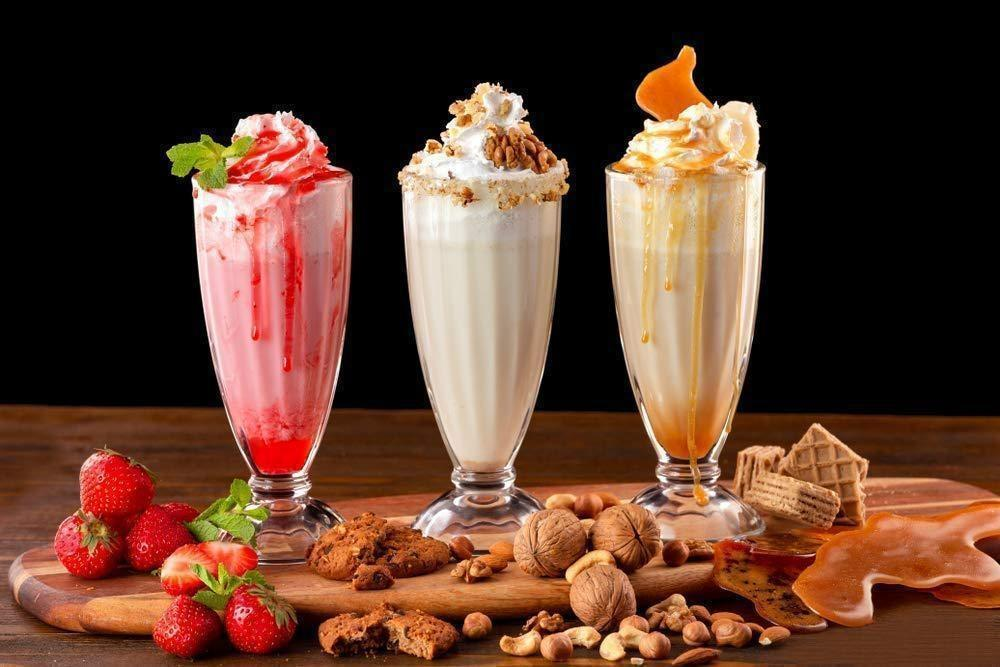glass-wine: (395, 151, 574, 555), (188, 163, 357, 564), (603, 158, 767, 542)
